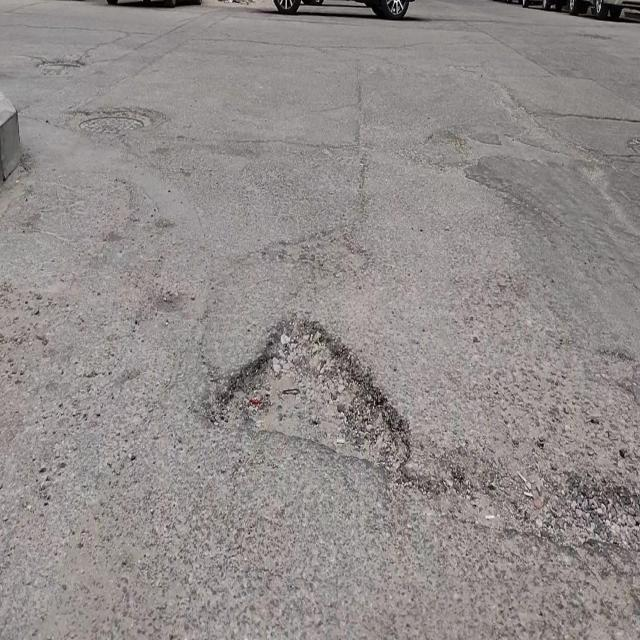Pothole: (212, 306, 407, 474)
